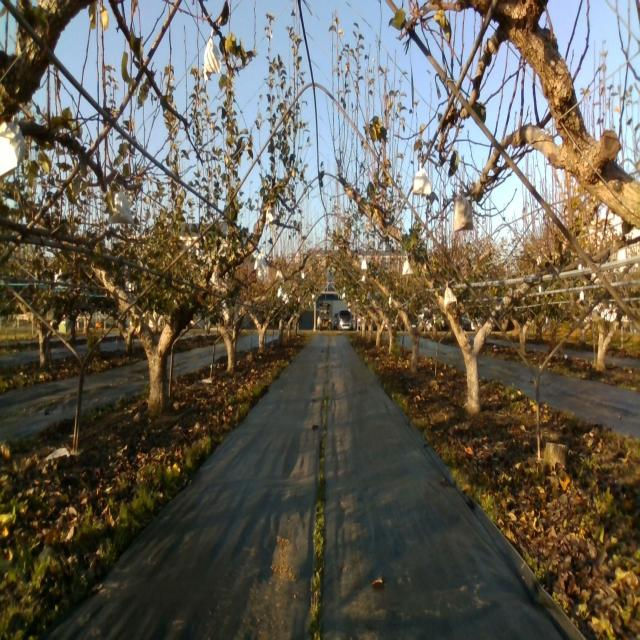pearbags: (0, 112, 30, 177), (203, 25, 222, 82), (108, 188, 135, 226), (453, 187, 473, 232), (414, 161, 432, 197), (443, 280, 457, 306), (254, 246, 266, 270), (402, 250, 414, 274), (208, 266, 221, 288)
